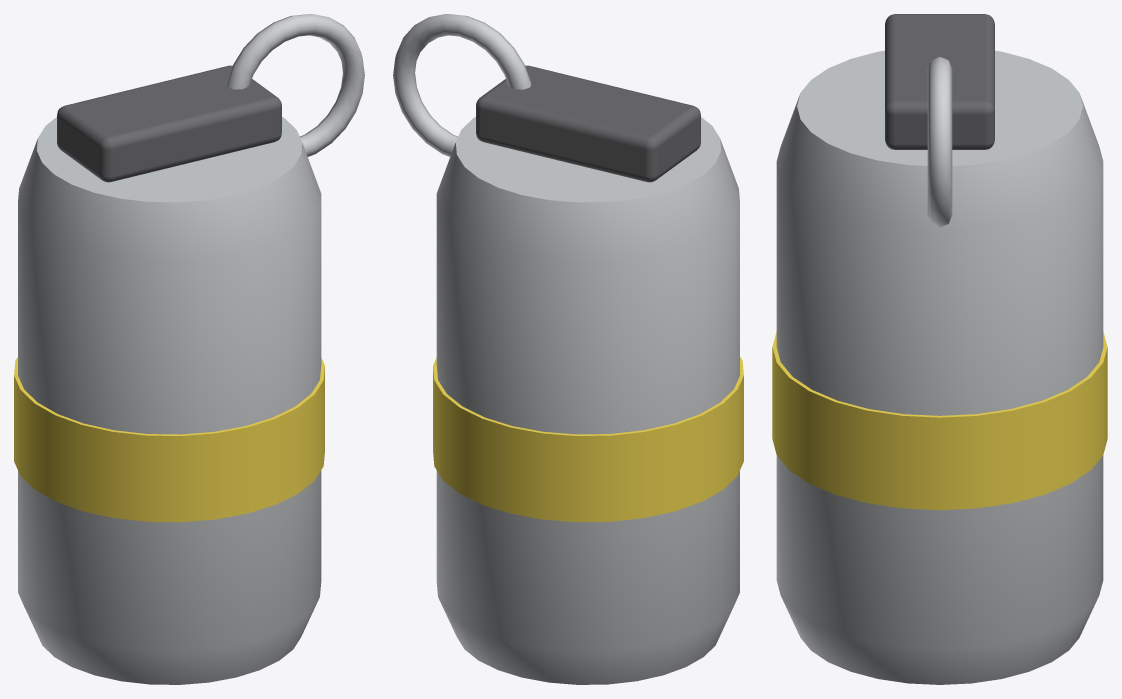
The model's file is prison-complex-builder-tear-gas-canister-prop-c44daea0__25710.glb.
3 renders of one model, left to right at view 1: azimuth 30°, elevation 25°; view 2: azimuth 150°, elevation 25°; view 3: azimuth 270°, elevation 25°, orthographic. The views are drawn at different scales.
Visible parts, largest first — view 1: tear-gas-canister-prop; view 2: tear-gas-canister-prop; view 3: tear-gas-canister-prop.
Boxes of the visible parts, box(x1,y1,x2,y2) form: tear-gas-canister-prop: box(14, 14, 364, 684); tear-gas-canister-prop: box(393, 14, 743, 684); tear-gas-canister-prop: box(772, 14, 1107, 684).
Bounding box in the file's own units: 0.1 × 0.169 × 0.082.
